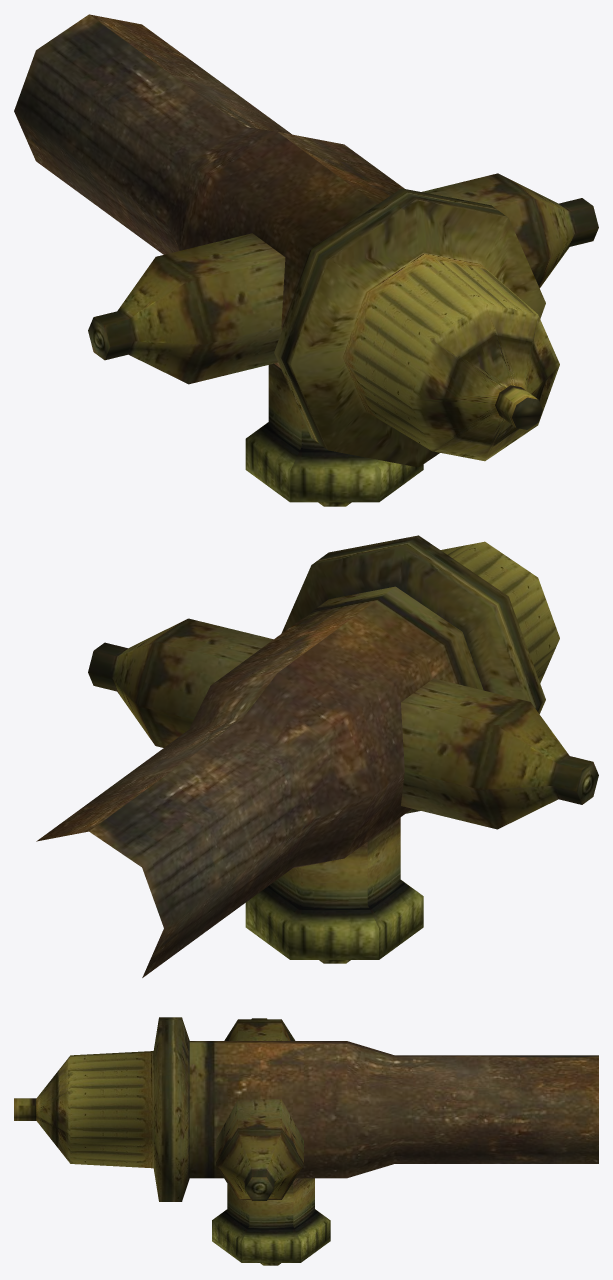
Rendered from prop_hydrant.glb.
3 renders of one model, top to bottom at view 1: azimuth 30°, elevation 25°; view 2: azimuth 150°, elevation 25°; view 3: azimuth 270°, elevation 25°, orthographic. The views are drawn at different scales.
Bounding box in the file's own units: 22.89 × 16.06 × 35.56.
Materials: 1 (1 with a texture image).
